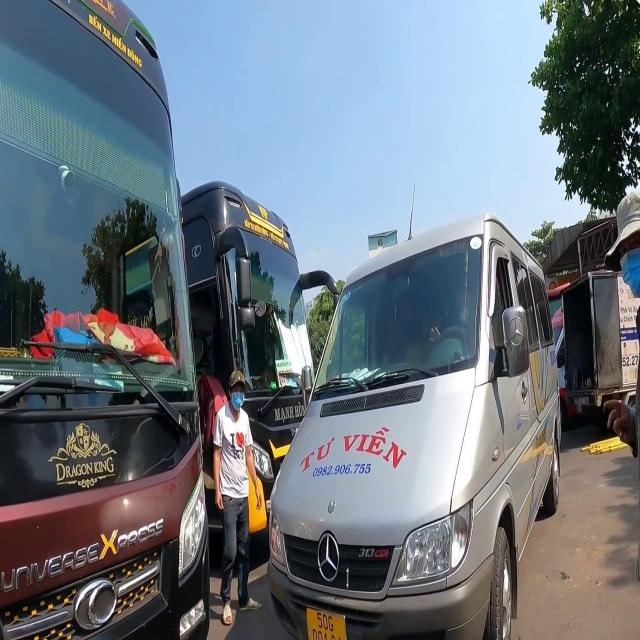bien_vang: (305, 601, 347, 640)
